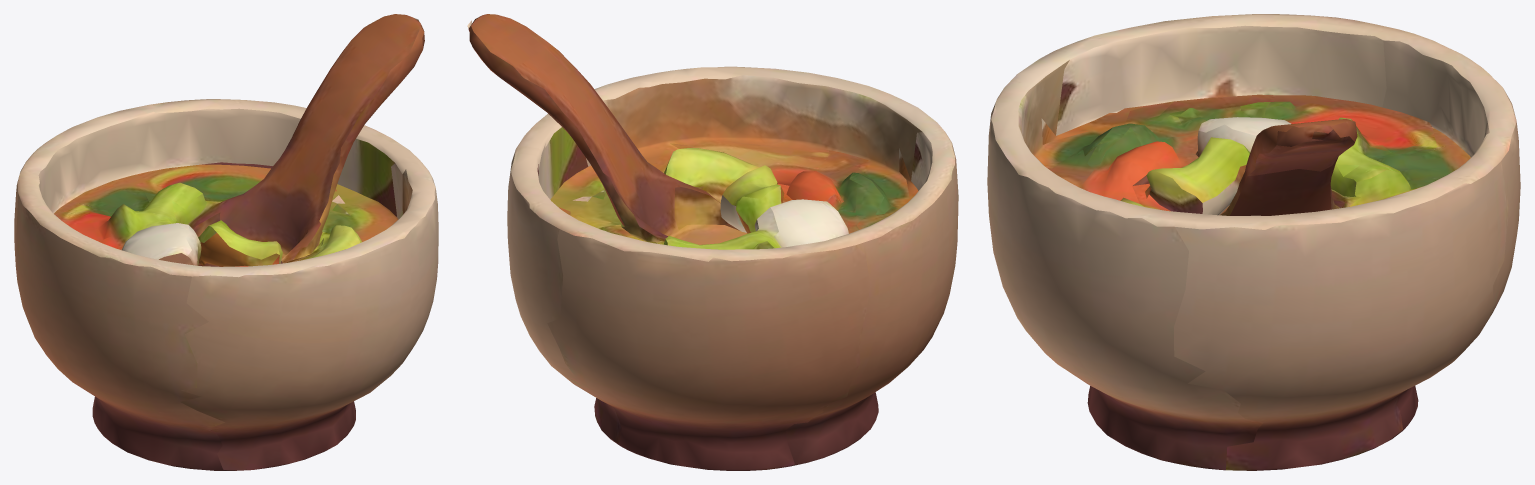
Rendered from soup.glb.
3 renders of one model, left to right at view 1: azimuth 30°, elevation 25°; view 2: azimuth 150°, elevation 25°; view 3: azimuth 270°, elevation 25°, orthographic. The views are drawn at different scales.
Parts seen in each view (by area): view 1: item_soup; view 2: item_soup; view 3: item_soup.
Boxes of the visible parts, x1,y1,x2,y2 form: item_soup: [14, 14, 438, 470]; item_soup: [467, 14, 958, 470]; item_soup: [987, 14, 1520, 470].
Bounding box in the file's own units: 1 × 0.7894 × 0.9351.
Materials: 1 (1 with a texture image).
